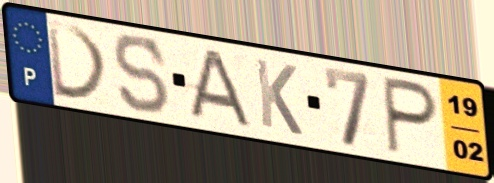7: (321, 64, 374, 149)
A: (183, 47, 256, 131)
D: (44, 18, 113, 104)
K: (252, 55, 306, 140)
P: (380, 73, 441, 159)
S: (111, 32, 173, 117)
